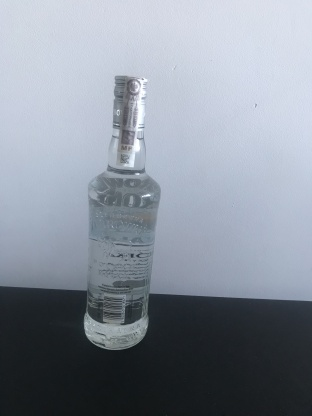nakretka: (110, 69, 149, 135)
